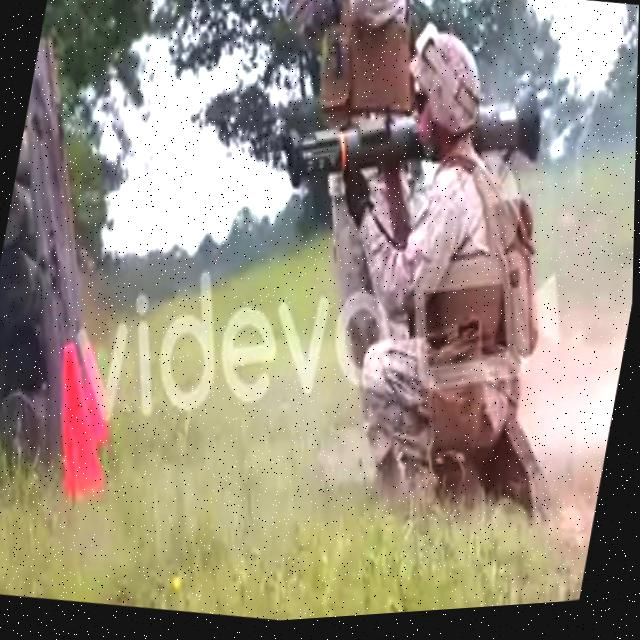rocket: (268, 57, 550, 239)
